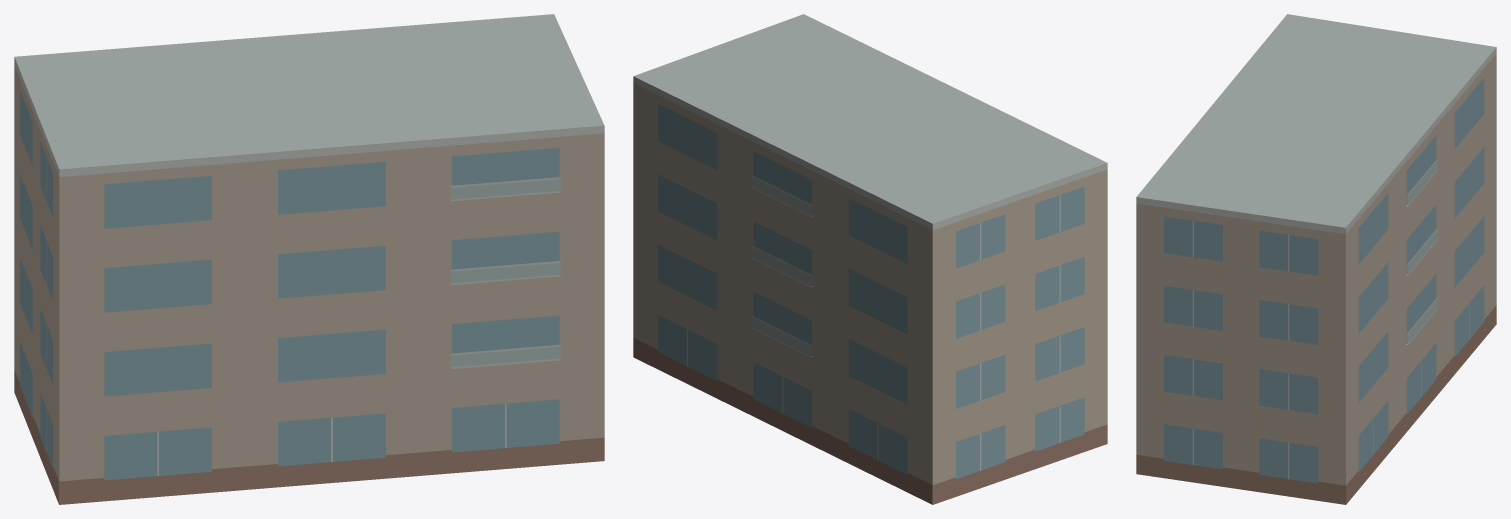
Rendered from survey-upis-32893562.glb.
3 renders of one model, left to right at view 1: azimuth 30°, elevation 25°; view 2: azimuth 150°, elevation 25°; view 3: azimuth 270°, elevation 25°, orthographic. The views are drawn at different scales.
Parts seen in each view (by area): view 1: survey-upis-32893562.tmp; view 2: survey-upis-32893562.tmp; view 3: survey-upis-32893562.tmp.
Part boxes in pixels (<box>): survey-upis-32893562.tmp: <box>14,14,604,504</box>; survey-upis-32893562.tmp: <box>633,14,1107,504</box>; survey-upis-32893562.tmp: <box>1136,14,1496,504</box>.
Bounding box in the file's own units: 17.47 × 10.55 × 12.44.
